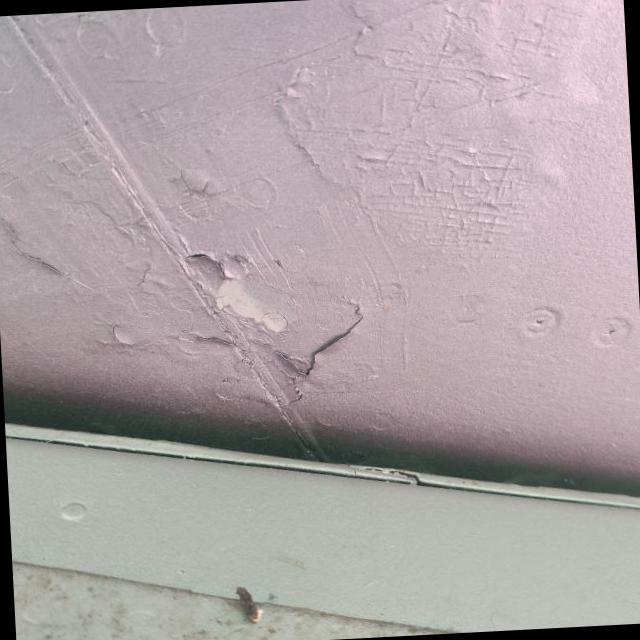Paint-off: (184, 253, 361, 401)
